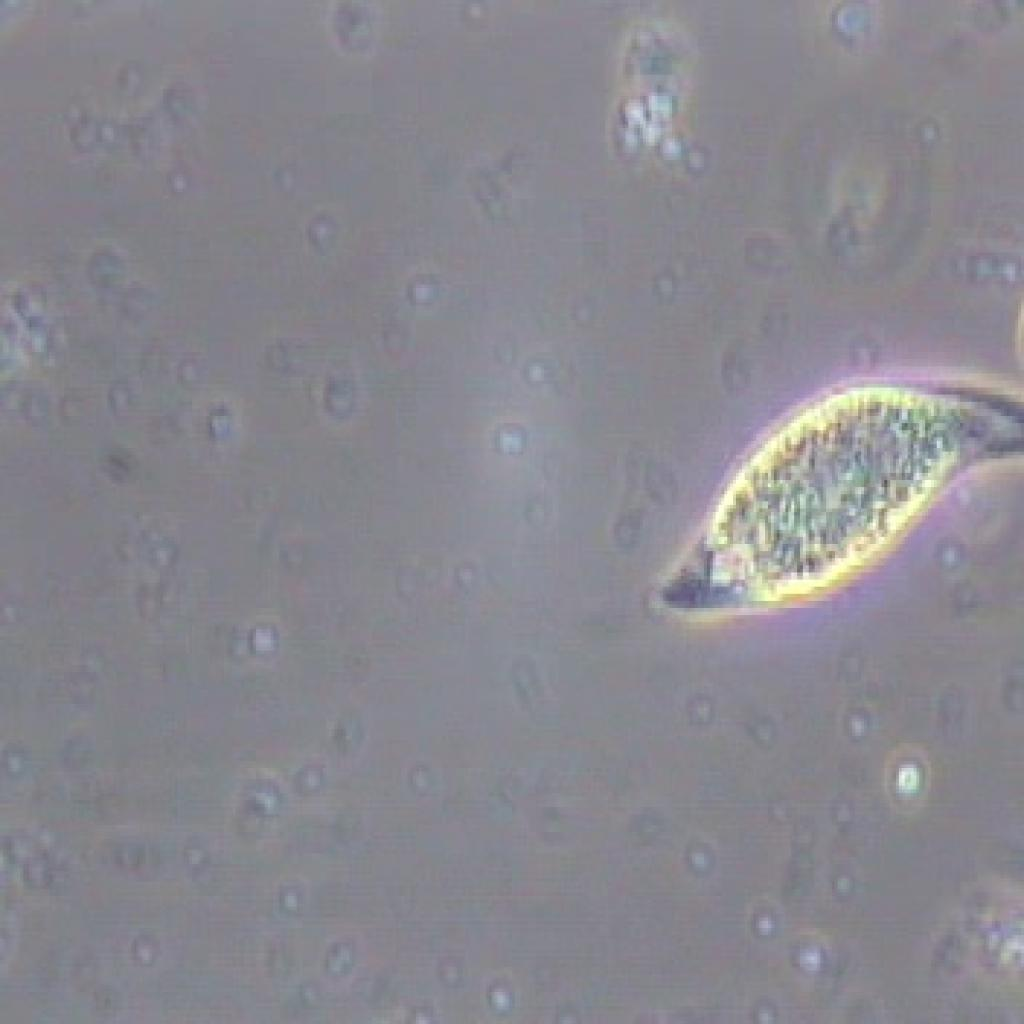Pristina: (622, 334, 1024, 636)
